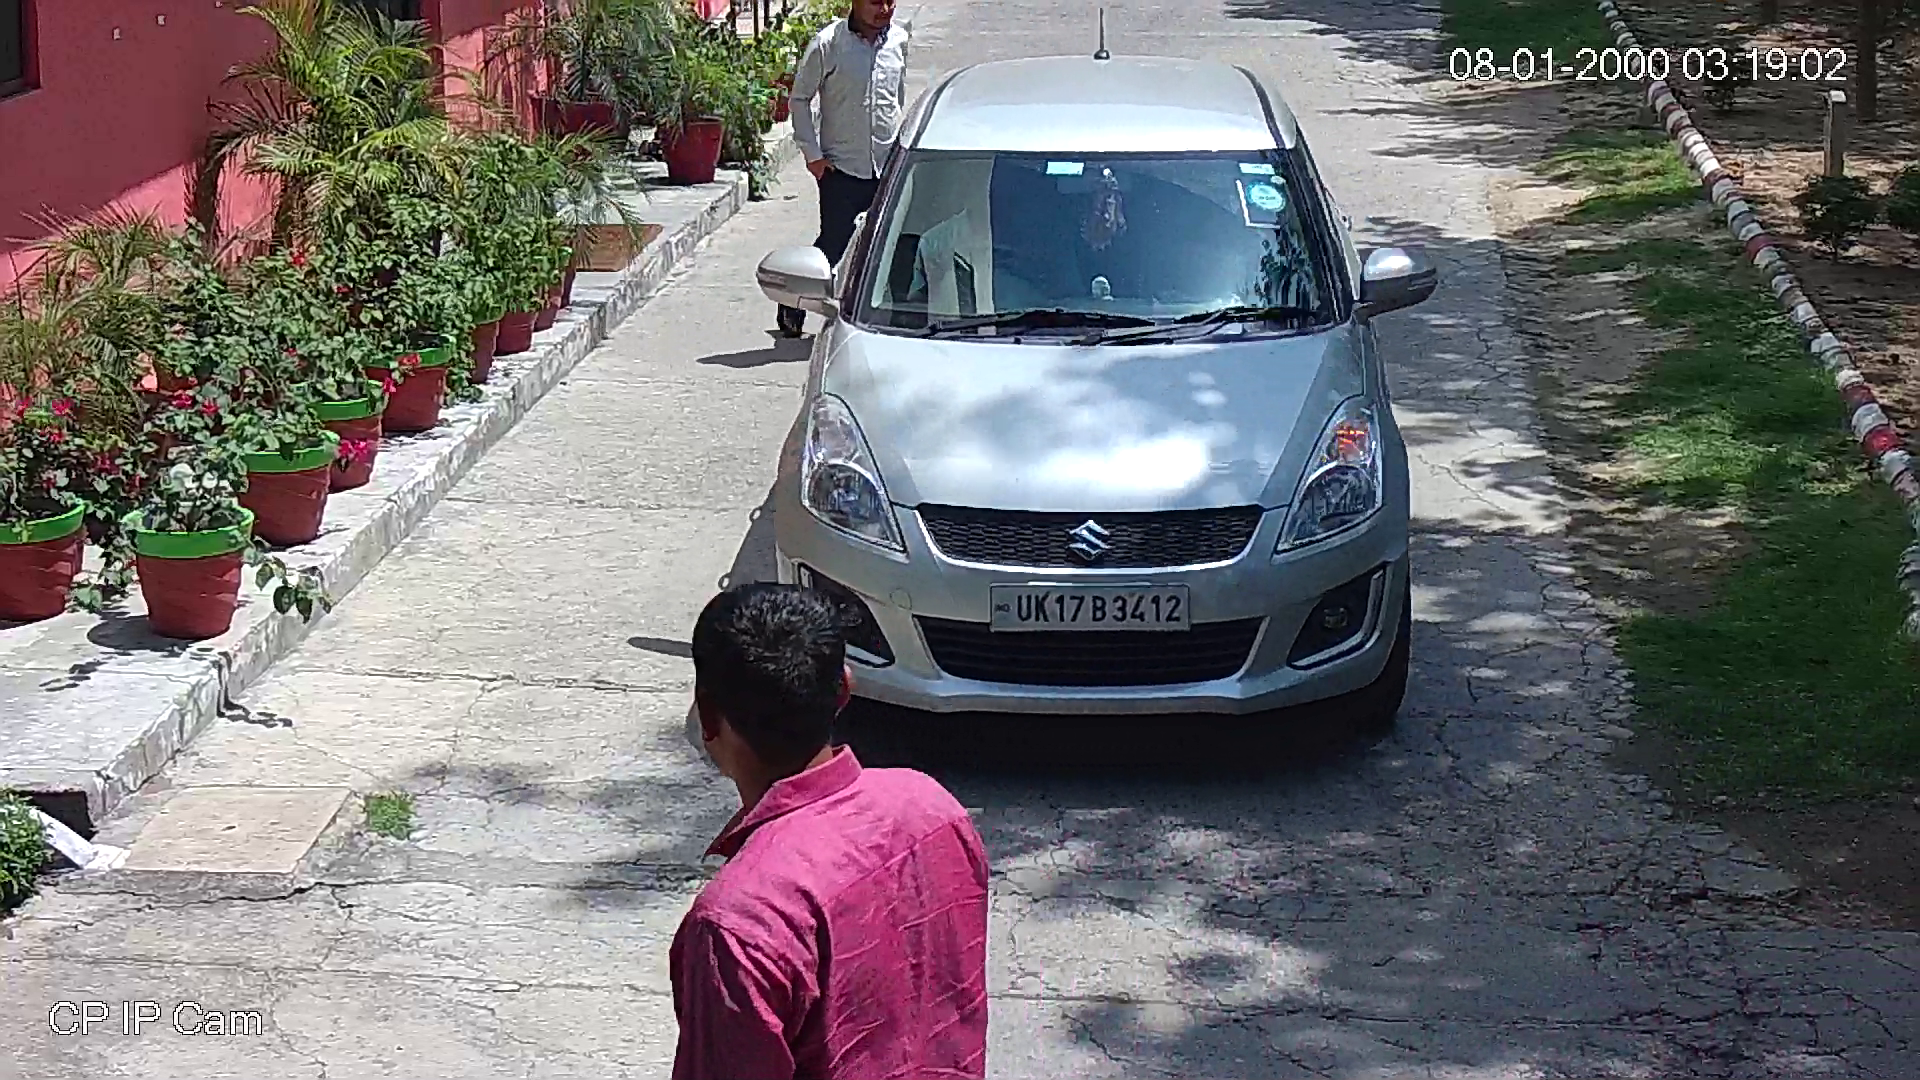plate: (976, 575, 1202, 637)
